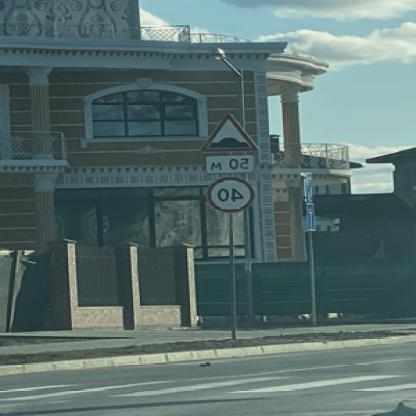speedlimit: (211, 174, 258, 212)
